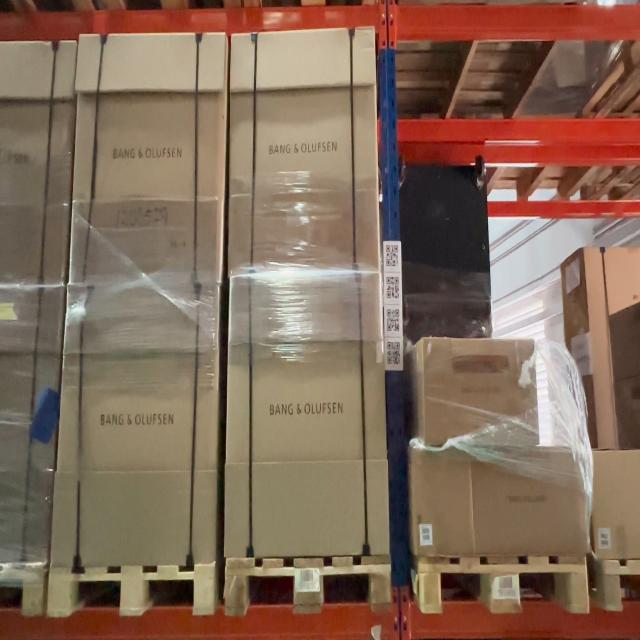box: (50, 282, 218, 569), (224, 273, 389, 559), (69, 32, 228, 287), (229, 28, 379, 272), (423, 337, 540, 451), (470, 447, 588, 555), (411, 446, 476, 557)
